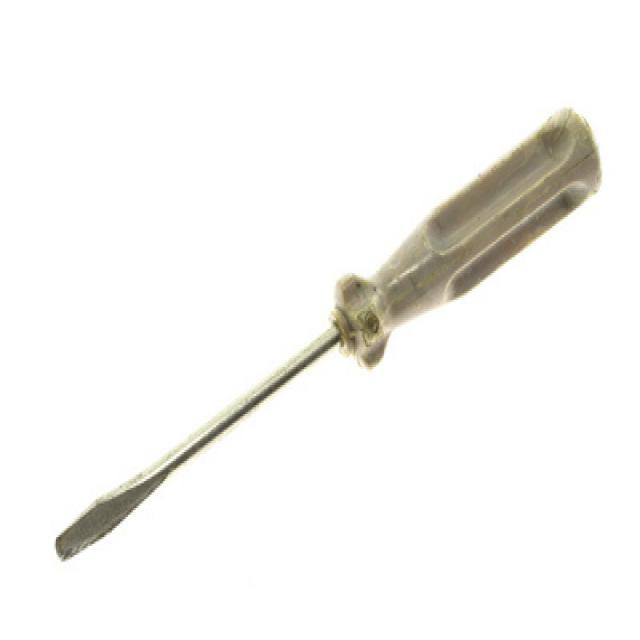screwdriver: (50, 103, 609, 572)
